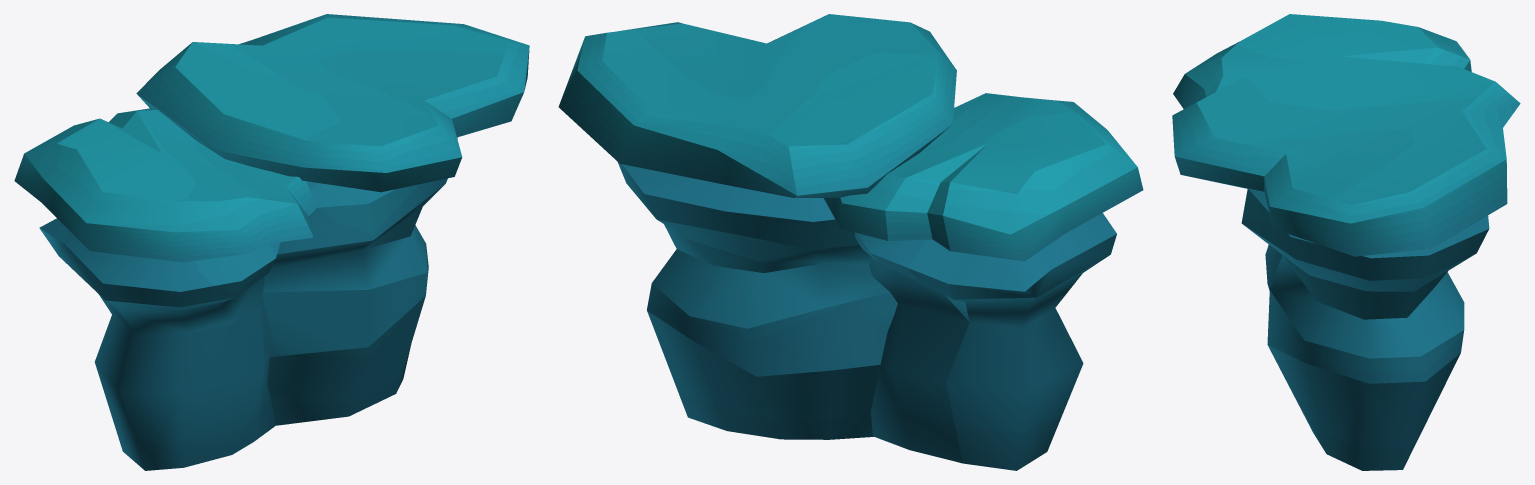
The model's file is RockD.fbx.
3 views of the same model, side by side, from view 1: azimuth 30°, elevation 25°; view 2: azimuth 150°, elevation 25°; view 3: azimuth 270°, elevation 25° (orthographic). The views are drawn at different scales.
Visible parts, largest first — view 1: RockD; view 2: RockD; view 3: RockD.
Part boxes in pixels (x1,y1,x2,y2): RockD: (14,14,529,470); RockD: (558,14,1143,470); RockD: (1172,14,1520,470).
Size of the model in its own units: 229 by 147 by 145.
1 material, 1 textured.
